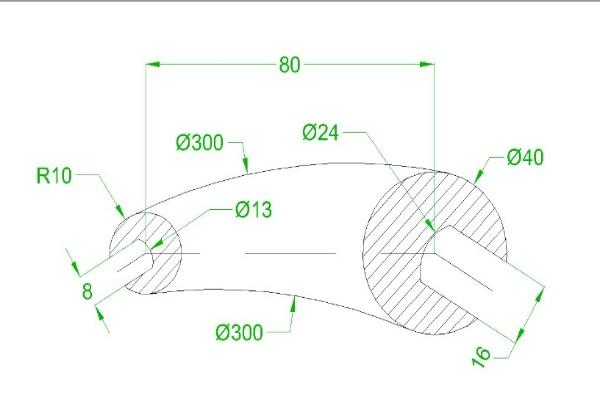dimensions: (26, 159, 79, 191), (210, 318, 268, 345), (232, 196, 281, 227), (503, 140, 548, 169), (172, 131, 226, 154), (467, 338, 494, 378), (296, 121, 342, 144), (272, 54, 304, 77), (76, 281, 100, 303)
